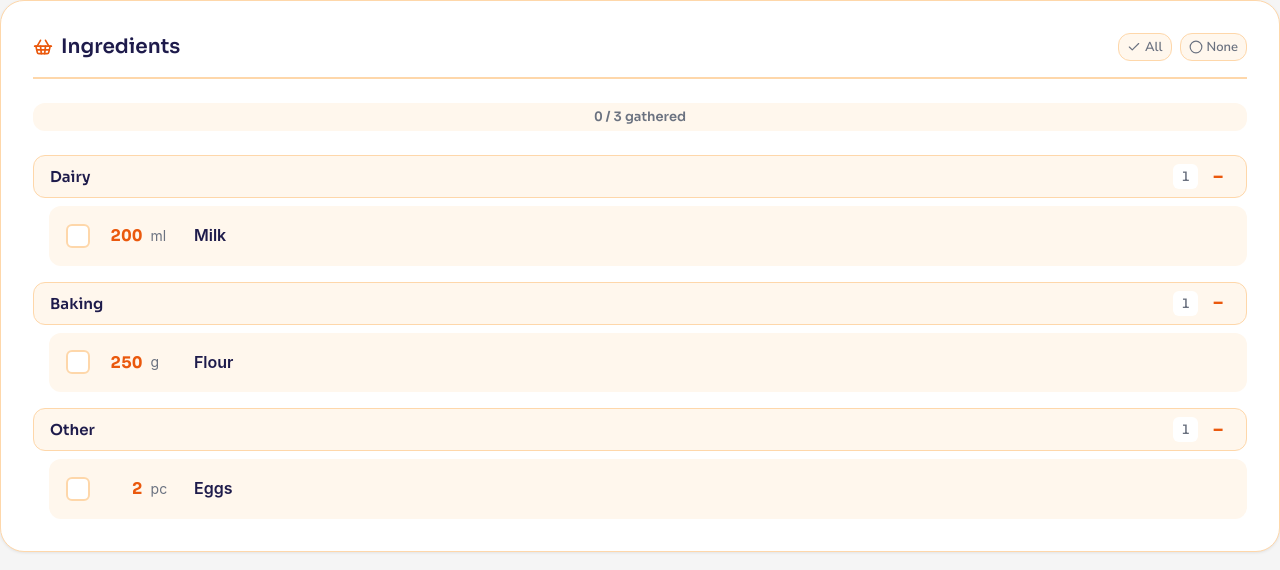
it: IngredientList › unchecks all ingredients when Uncheck All is clicked
First check all
Click the button with aria-label "mark all ingredients as gathered". click: x=1145, y=47
box: x1=1118 y1=33 x2=1172 y2=61
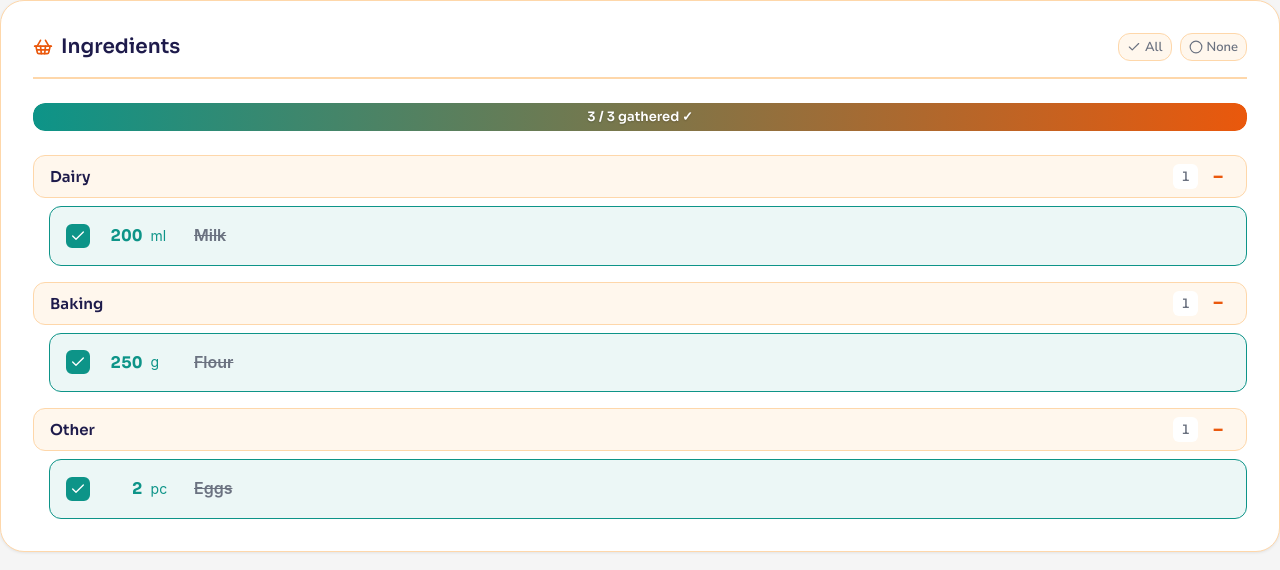
Then uncheck all
Click the button with aria-label "clear all gathered ingredients". click: x=1213, y=47
box: x1=1180 y1=33 x2=1247 y2=61
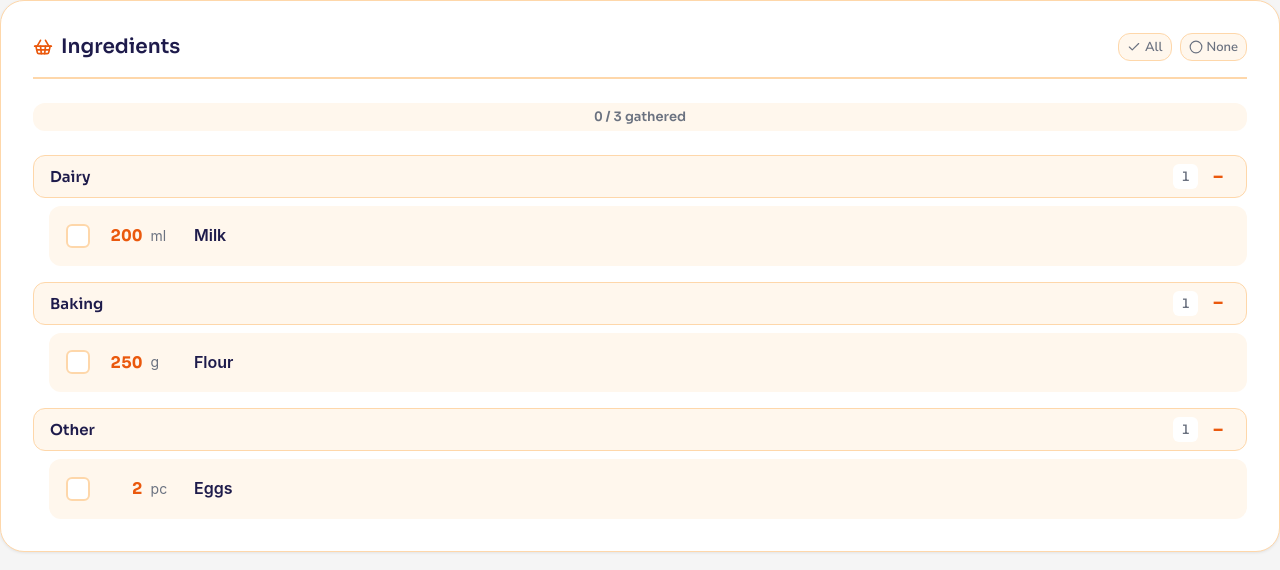
Check: the checkbox labelled "200 ml Milk" is not checked, box x1=66 y1=224 x2=226 y2=248
Check: the checkbox labelled "250 g Flour" is not checked, box x1=66 y1=350 x2=233 y2=374
Check: the checkbox labelled "2 pc Eggs" is not checked, box x1=66 y1=477 x2=232 y2=501
